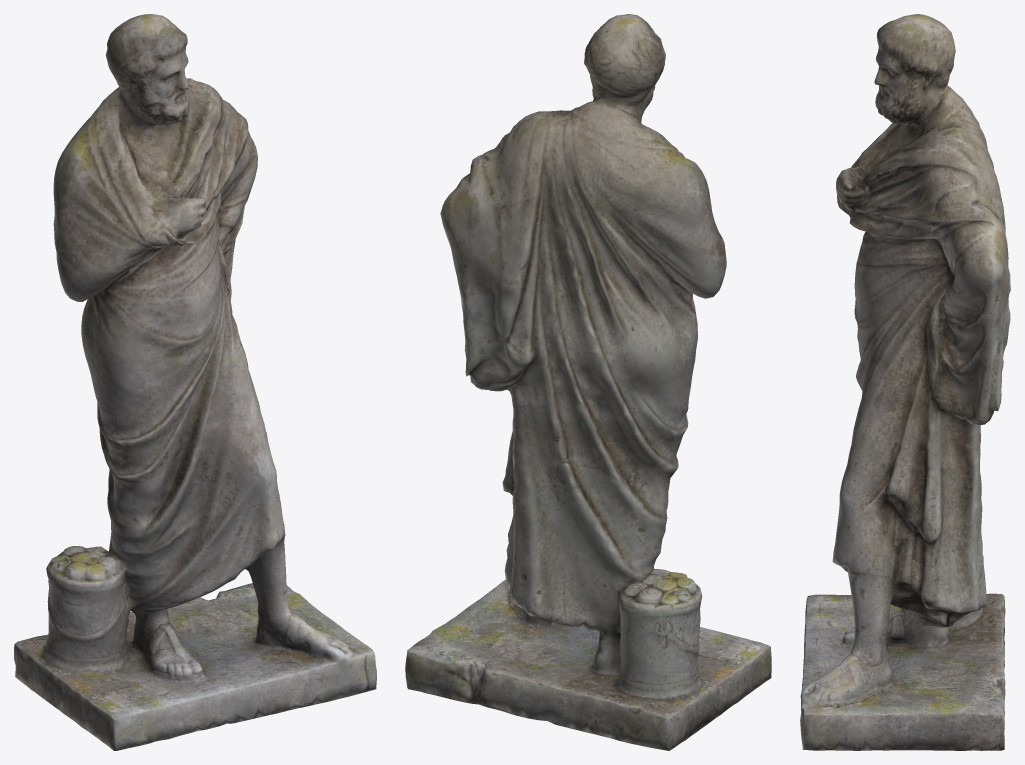
The model's file is sophocles.glb.
3 views of the same model, side by side, from view 1: azimuth 30°, elevation 25°; view 2: azimuth 150°, elevation 25°; view 3: azimuth 270°, elevation 25° (orthographic). The views are drawn at different scales.
Visible parts, largest first — view 1: Object_2; view 2: Object_2; view 3: Object_2.
Part boxes in pixels (x1,y1,x2,y2): Object_2: [14, 14, 376, 750]; Object_2: [405, 14, 771, 750]; Object_2: [800, 14, 1010, 750].
Bounding box in the file's own units: 1.03 × 2.49 × 0.7279.
Materials: 1 (1 with a texture image).
